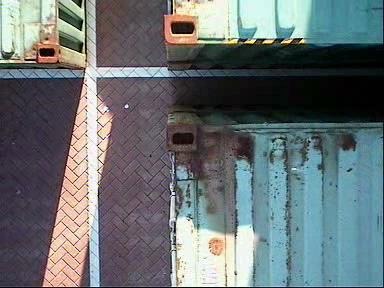groundmarker_2: (52, 66, 123, 112)
